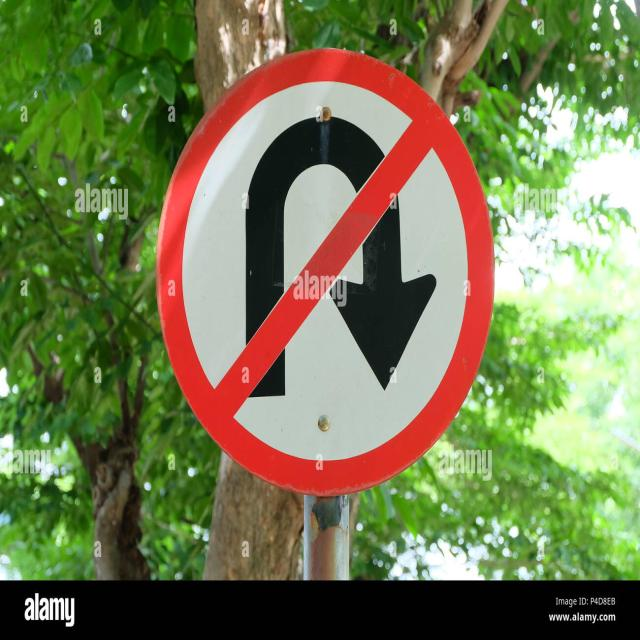Demi-Tour-Interdit: (150, 56, 501, 496)
